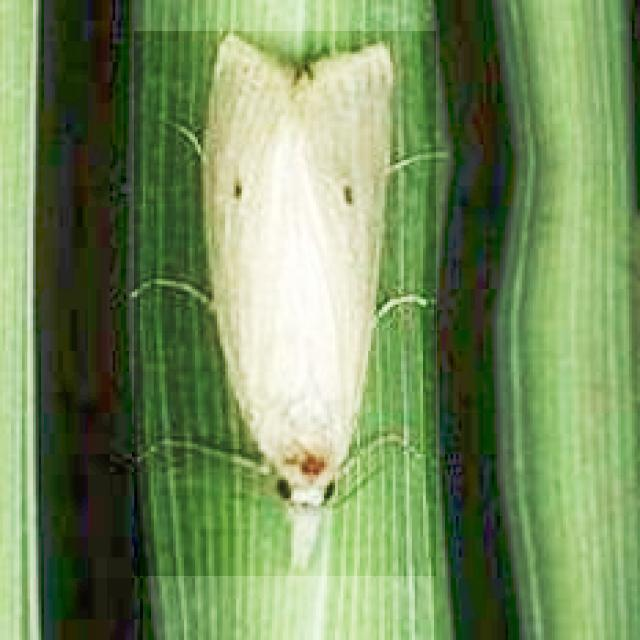stem-borer: (134, 31, 436, 576)
